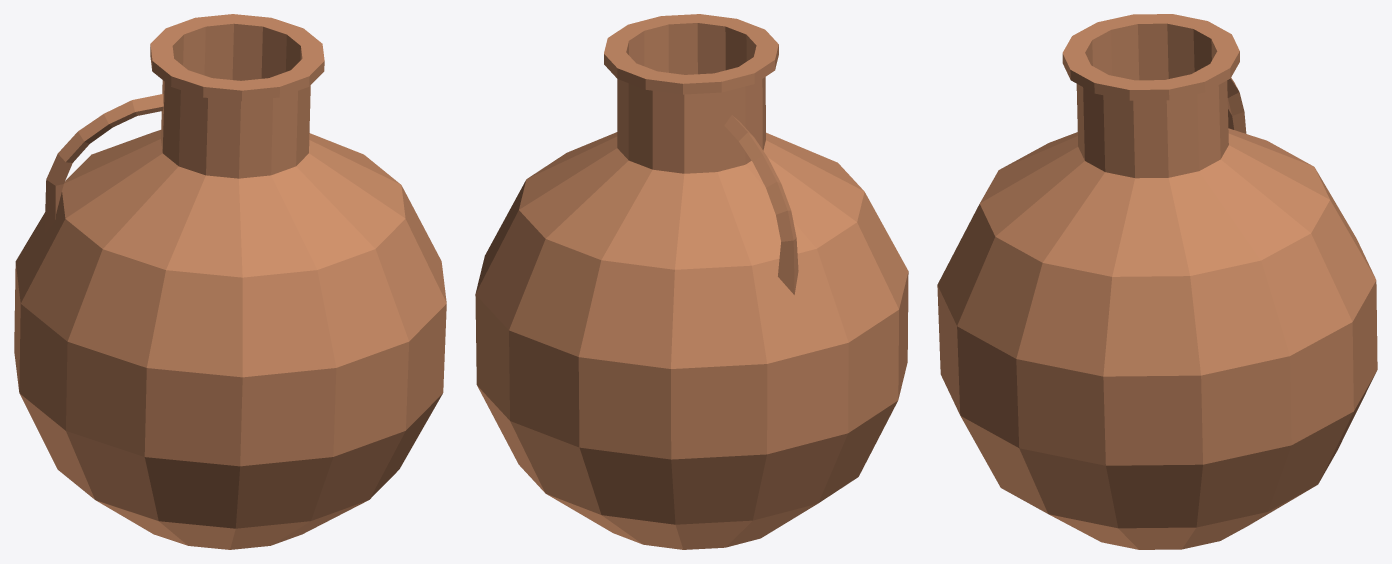
File: Vaso_1_low.fbx
3 renders of one model, left to right at view 1: azimuth 30°, elevation 25°; view 2: azimuth 150°, elevation 25°; view 3: azimuth 270°, elevation 25°, orthographic.
Visible parts, largest first — view 1: Vaso_1_low; view 2: Vaso_1_low; view 3: Vaso_1_low.
Part boxes in pixels (x1,y1,x2,y2): Vaso_1_low: (14, 14, 446, 549); Vaso_1_low: (475, 14, 908, 549); Vaso_1_low: (937, 14, 1377, 549).
Size of the model in its own units: 0.7541 by 0.9322 by 0.7706.
